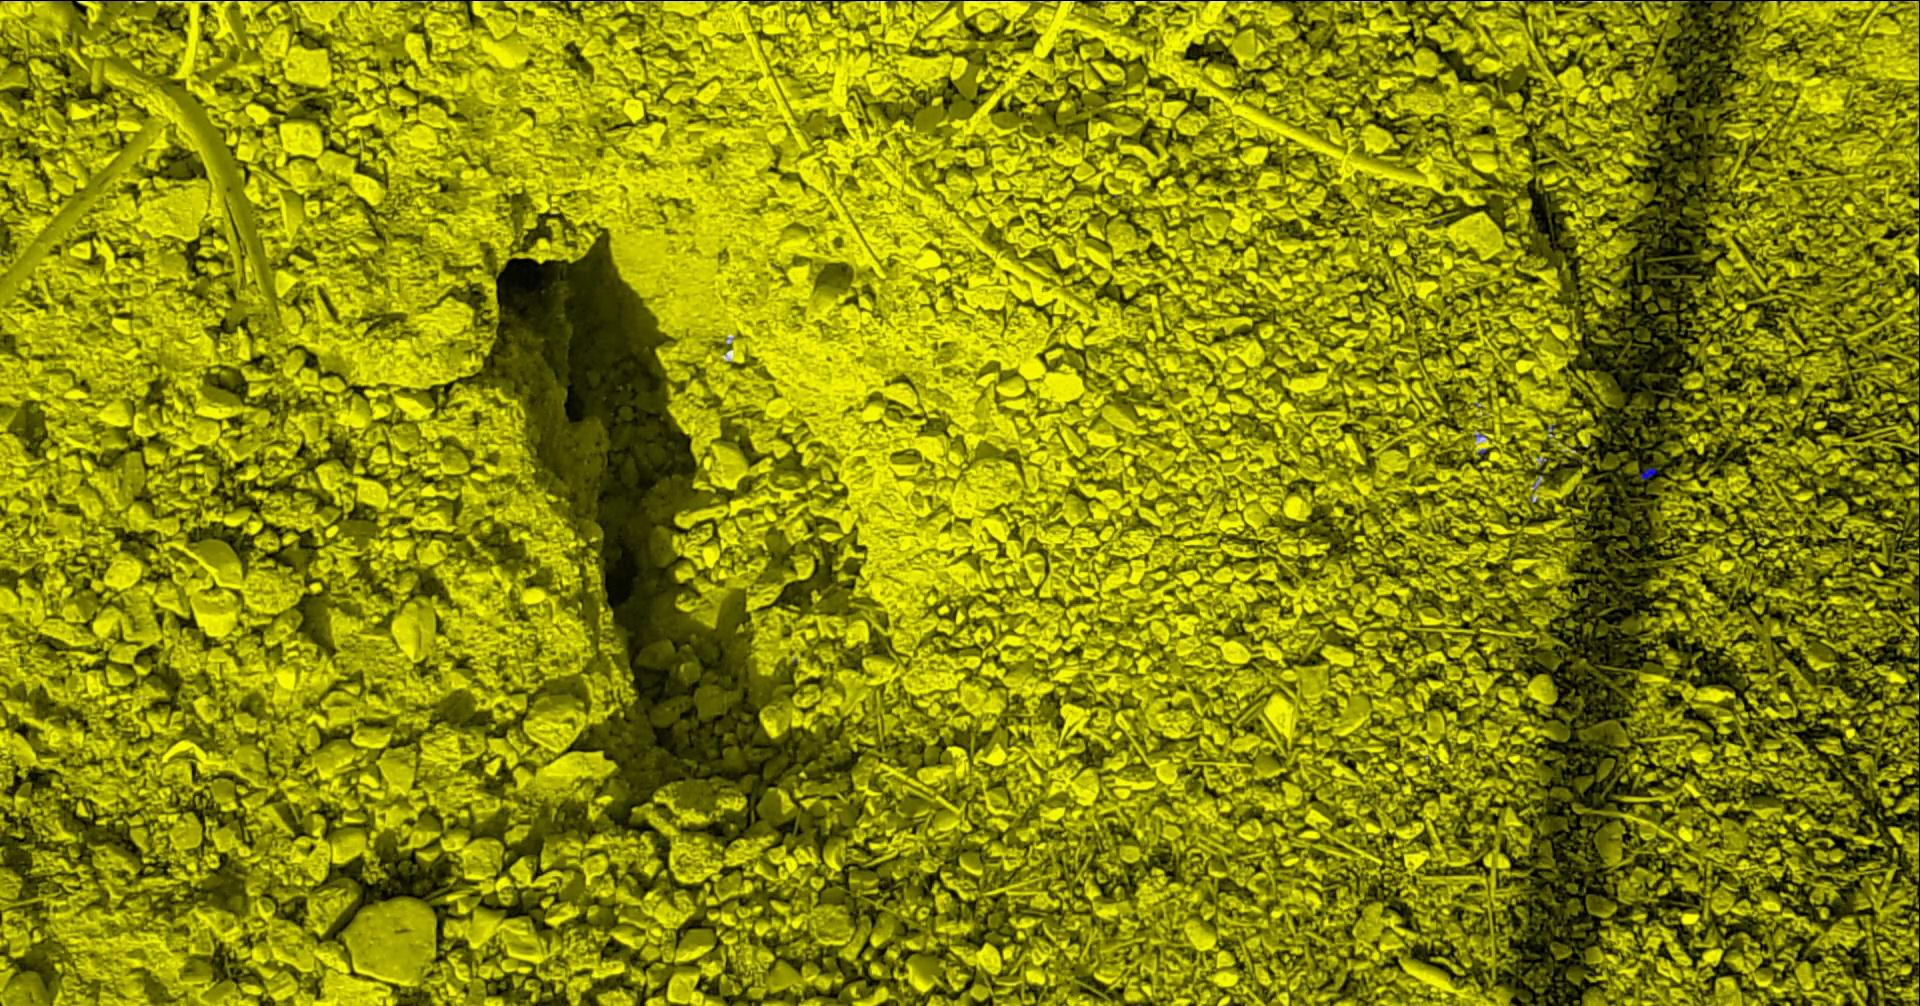ant: (1639, 466, 1656, 480)
